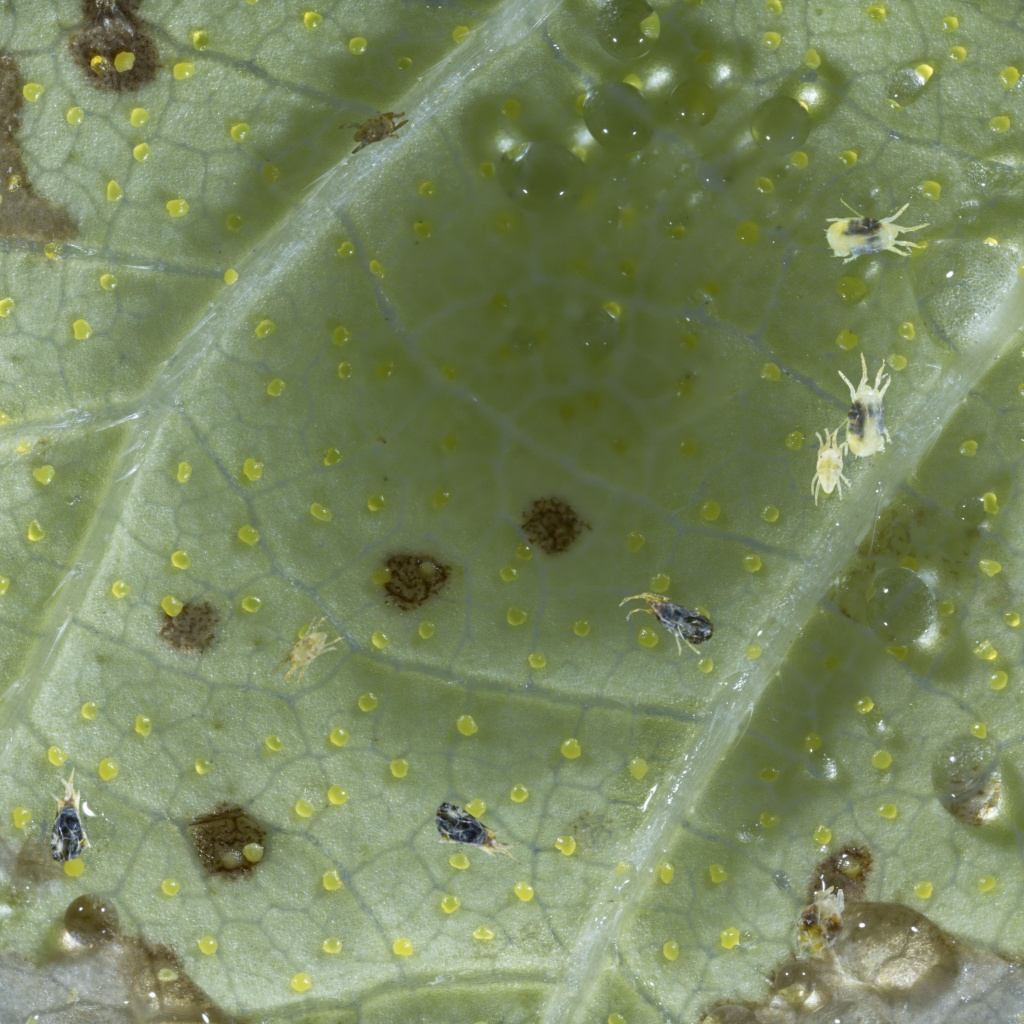Adult_female: (822, 347, 909, 466), (822, 197, 933, 271)
Adult_male: (269, 607, 351, 698), (332, 86, 416, 171), (794, 423, 864, 508)
Dead_mite: (420, 780, 535, 898), (24, 756, 119, 872), (610, 585, 720, 663), (793, 885, 847, 958)
